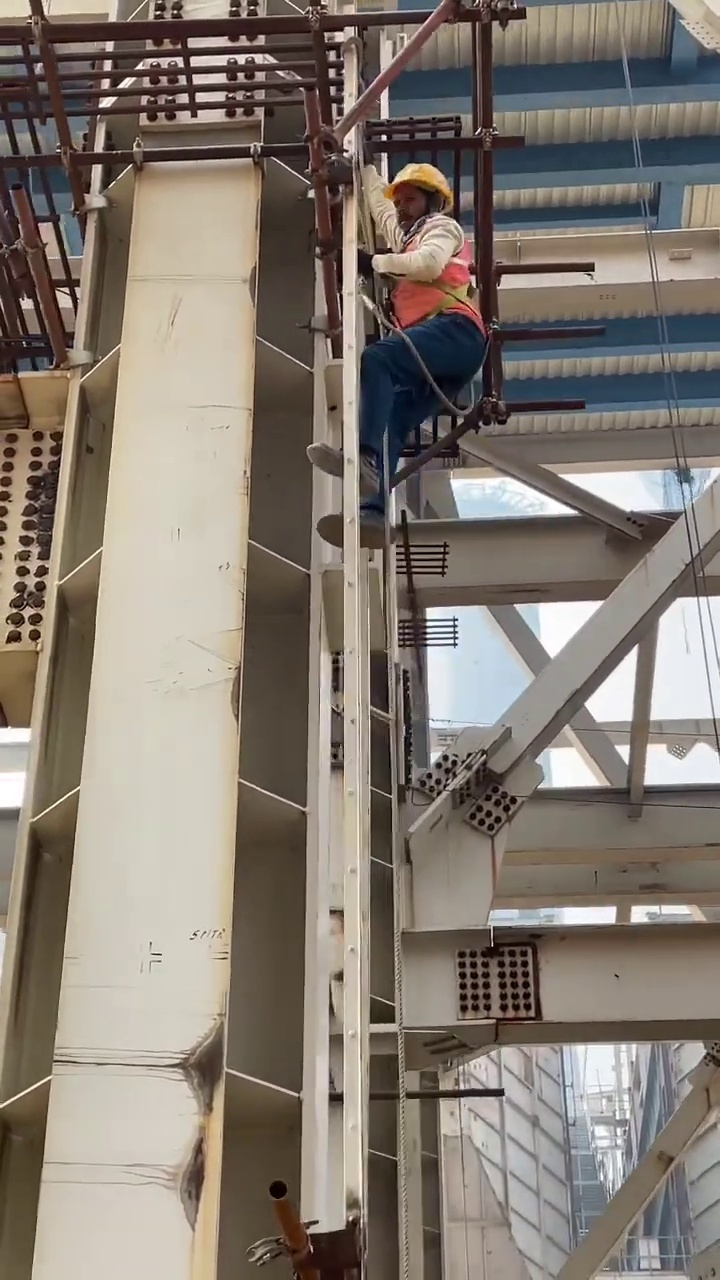Helmet: (392, 165, 459, 209)
Person: (309, 164, 491, 564)
Safety_Harness: (384, 219, 489, 403)
Safety_shoes: (308, 435, 386, 499), (316, 510, 401, 555)
